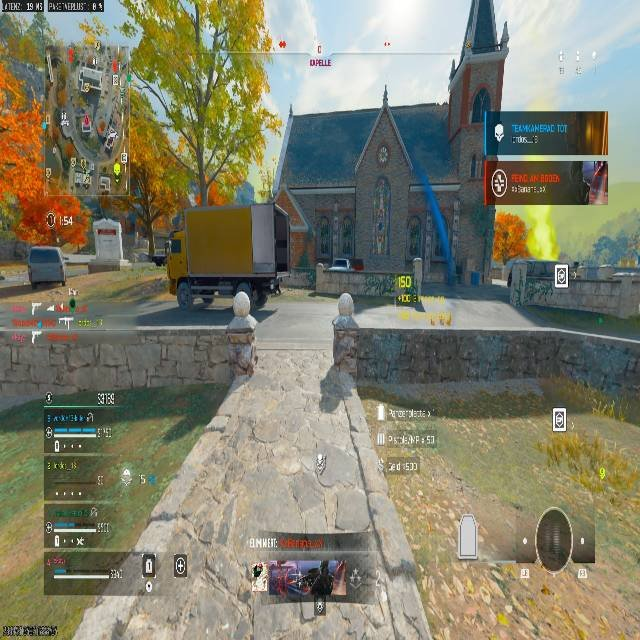player: (311, 564, 334, 616)
